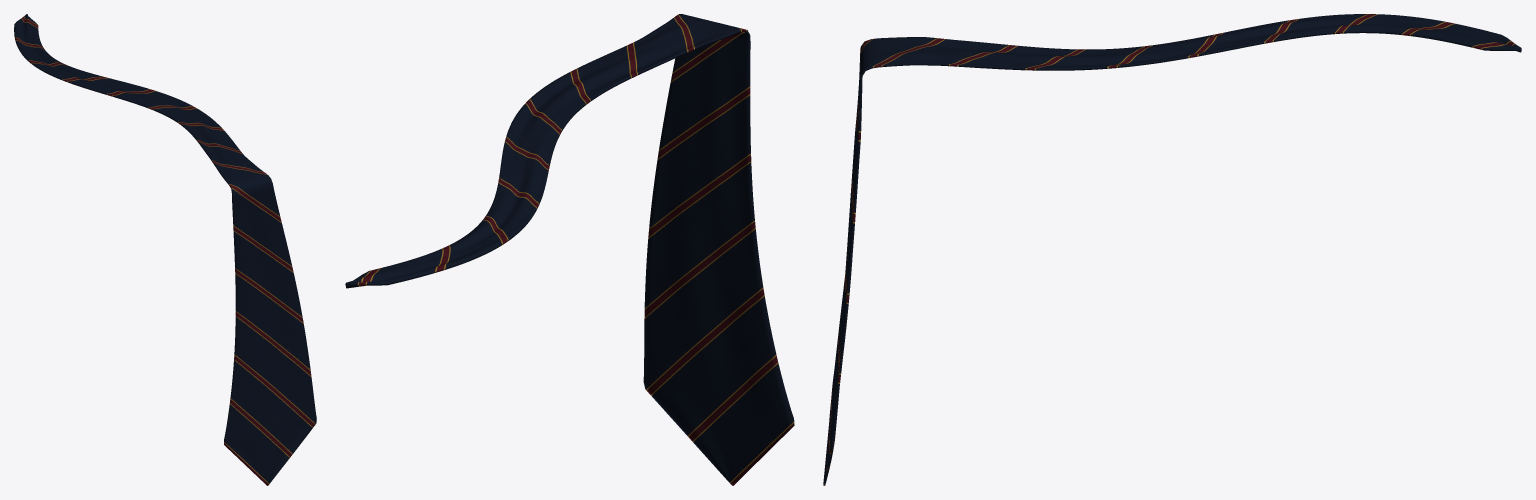
Rendered from tie.glb.
3 renders of one model, left to right at view 1: azimuth 30°, elevation 25°; view 2: azimuth 150°, elevation 25°; view 3: azimuth 270°, elevation 25°, orthographic. The views are drawn at different scales.
Visible parts, largest first — view 1: Tie; view 2: Tie; view 3: Tie.
Part boxes in pixels (x1=…): Tie: x1=14, y1=14, x2=316, y2=485; Tie: x1=345, y1=14, x2=794, y2=485; Tie: x1=823, y1=14, x2=1521, y2=485.
Bounding box in the file's own units: 0.0923 × 0.2615 × 0.3771.
1 material, 1 textured.
